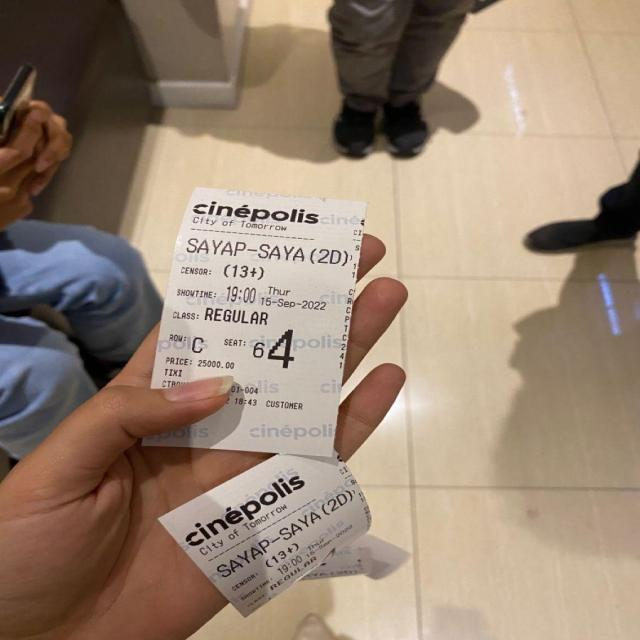date: (218, 283, 332, 314)
store: (192, 200, 326, 232)
total: (166, 354, 250, 370)
